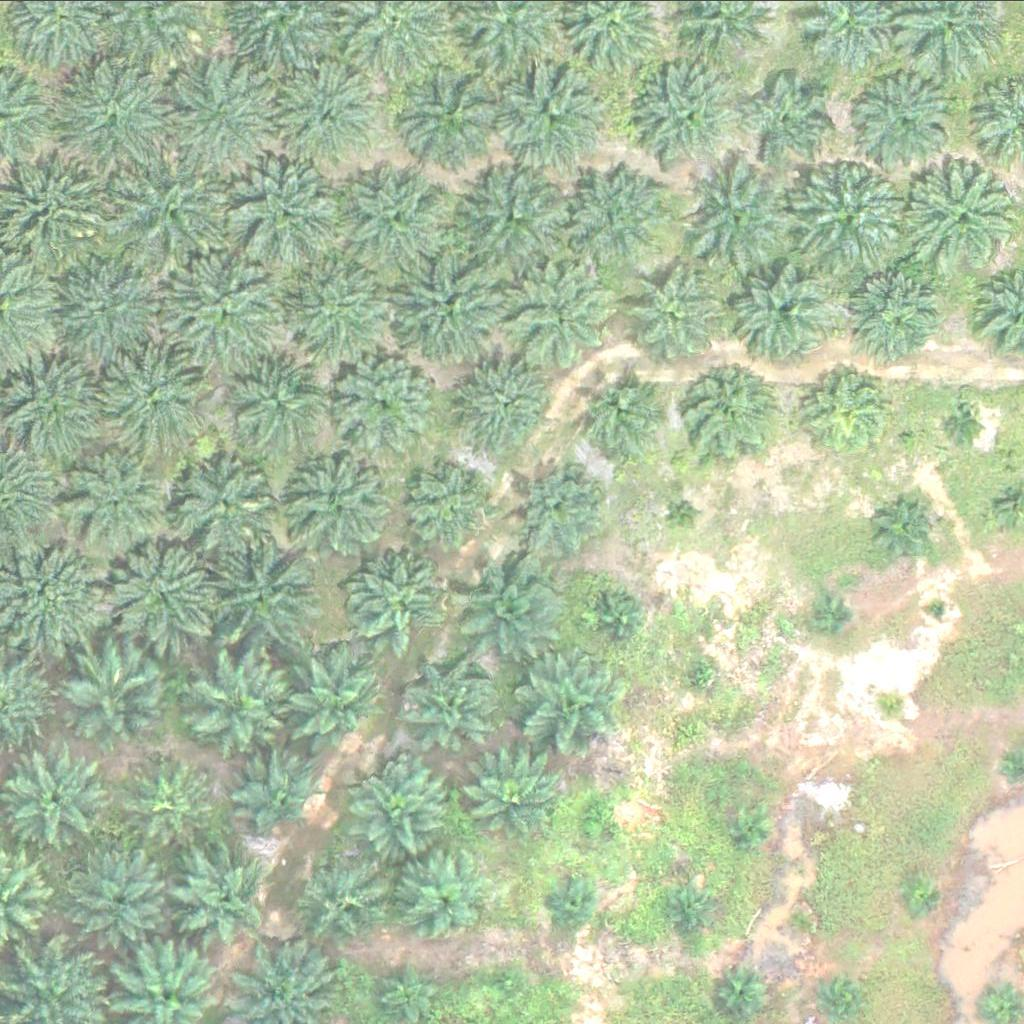Kelapa_Sawit: (386, 245, 512, 370), (279, 248, 405, 373), (157, 248, 283, 373), (101, 148, 227, 273), (230, 147, 356, 272), (450, 154, 576, 279), (168, 52, 294, 177), (58, 51, 184, 176), (99, 534, 224, 659), (787, 156, 912, 281), (61, 257, 175, 370), (210, 537, 323, 650), (459, 546, 572, 659), (343, 161, 456, 274), (633, 56, 746, 169), (564, 159, 677, 272), (682, 162, 795, 275), (393, 55, 506, 167), (509, 258, 622, 370), (283, 652, 384, 752), (352, 757, 453, 857), (76, 846, 177, 946), (170, 846, 271, 946), (289, 853, 390, 953), (350, 551, 451, 651), (298, 454, 399, 554), (177, 456, 278, 556), (65, 451, 166, 551), (107, 343, 208, 443), (336, 350, 437, 450), (461, 354, 562, 454), (745, 66, 846, 166), (854, 71, 955, 171), (615, 268, 716, 368), (732, 257, 833, 357), (851, 260, 952, 360), (570, 365, 671, 465), (676, 363, 777, 463), (797, 358, 898, 458), (524, 652, 625, 752), (67, 644, 167, 744), (193, 656, 293, 756), (9, 745, 109, 845), (288, 55, 388, 155), (505, 61, 605, 161), (464, 749, 564, 849), (237, 749, 325, 837), (129, 756, 217, 844), (407, 662, 495, 750), (241, 359, 329, 447), (404, 852, 493, 939), (515, 463, 604, 550), (408, 464, 496, 551), (878, 500, 941, 563), (372, 961, 435, 1023), (721, 972, 772, 1022), (592, 594, 643, 644), (666, 888, 716, 938), (543, 875, 593, 925), (578, 797, 616, 835), (729, 806, 767, 844), (685, 654, 723, 692), (666, 492, 704, 530), (875, 686, 913, 724), (944, 395, 982, 433), (490, 964, 528, 1001), (814, 603, 852, 640), (775, 906, 813, 943), (825, 980, 862, 1017), (898, 875, 935, 912), (924, 596, 949, 621)
